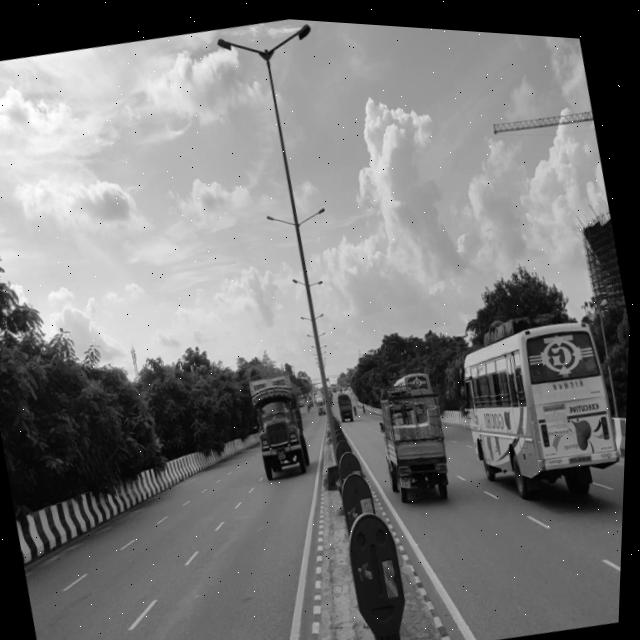bus: (441, 286, 632, 522)
truck: (362, 354, 468, 512), (241, 354, 320, 478)
